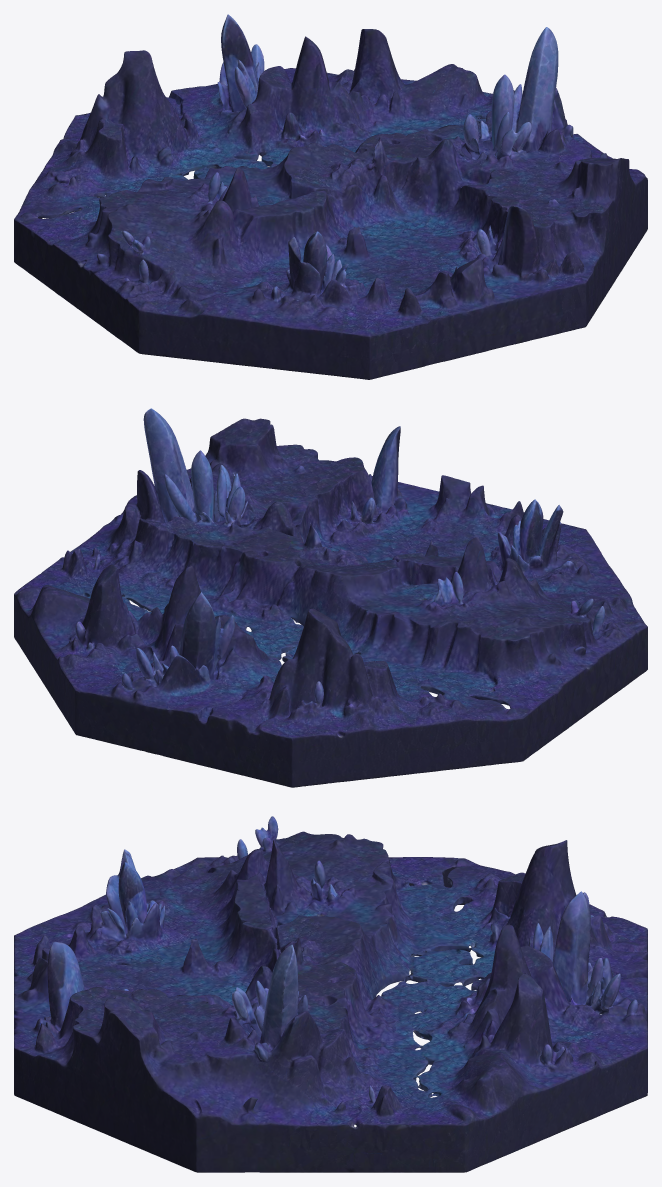
The model's file is Void.fbx.
3 renders of one model, top to bottom at view 1: azimuth 30°, elevation 25°; view 2: azimuth 150°, elevation 25°; view 3: azimuth 270°, elevation 25°, orthographic. The views are drawn at different scales.
Visible parts, largest first — view 1: Mesh_0; view 2: Mesh_0; view 3: Mesh_0.
Part boxes in pixels (x1=…): Mesh_0: x1=14, y1=14, x2=647, y2=379; Mesh_0: x1=14, y1=408, x2=647, y2=787; Mesh_0: x1=14, y1=816, x2=647, y2=1172.
Size of the model in its own units: 1.9 by 0.656 by 1.9.
1 material, 1 textured.
